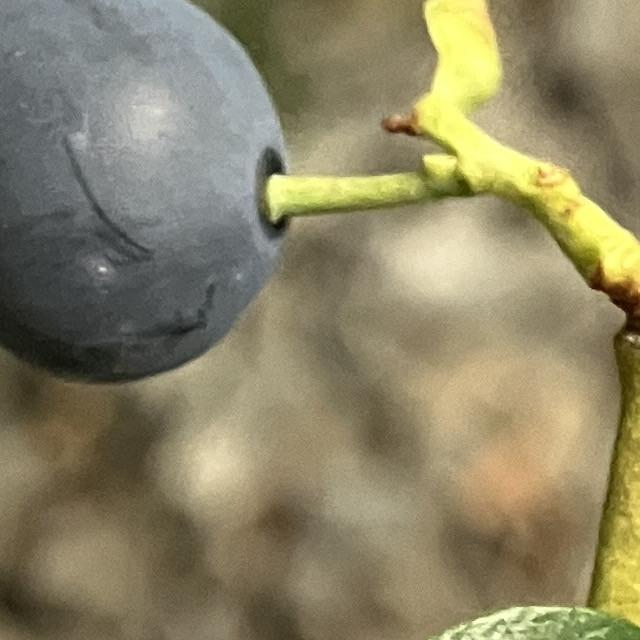Blueberries: (0, 0, 292, 385)
